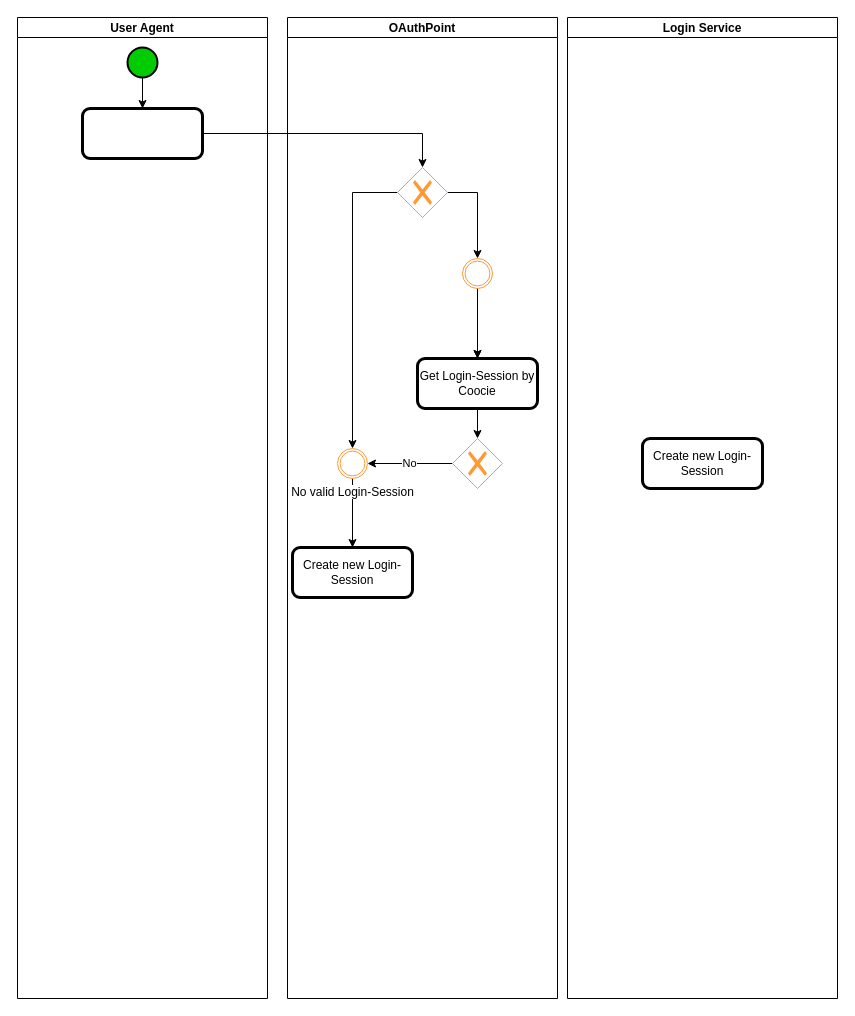
The diagram is 855 pixels wide and 1016 high, and some of its shapes have lost their labels. The centre of each missing label's shape, as x and y in pixels:
Has Login-Session Coocie: pixel 477 273
Is valid Login-Session: pixel 477 463
Request /authorization: pixel 142 133
Start: pixel 142 62
